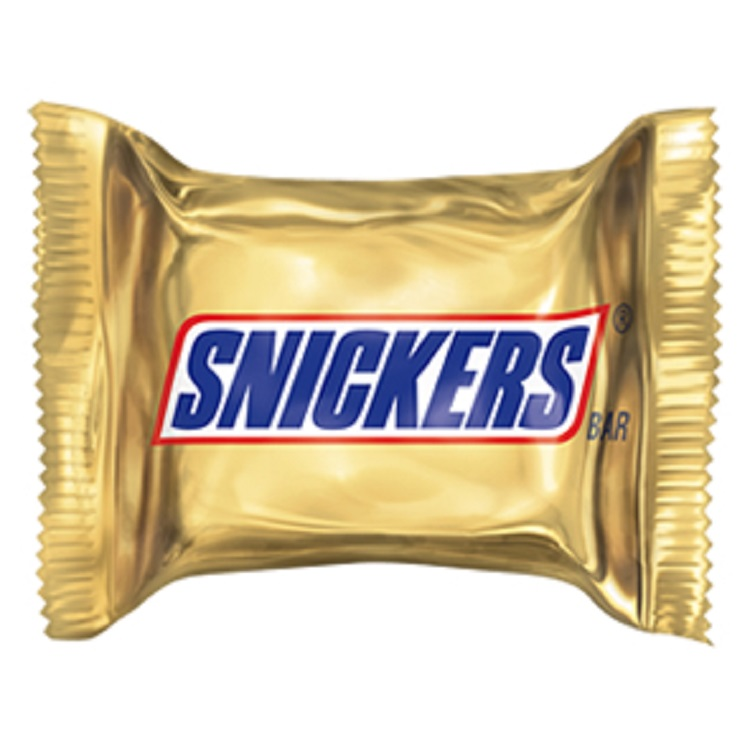snickers: (169, 323, 589, 426)
